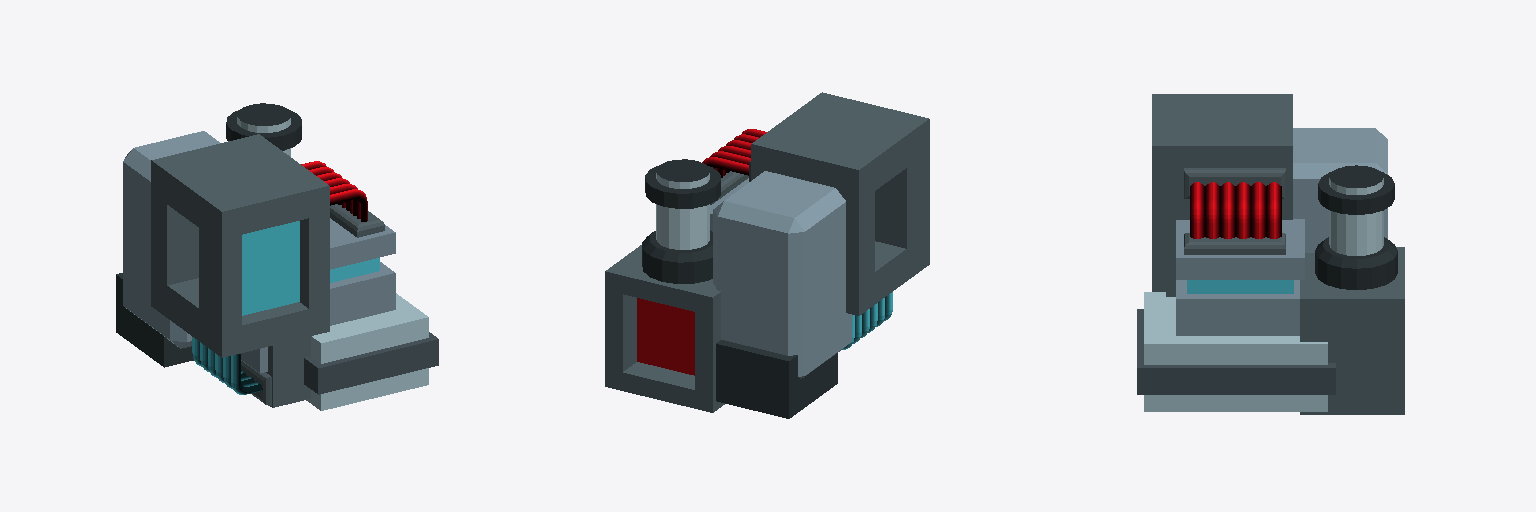
3 renders of one model, left to right at view 1: azimuth 30°, elevation 25°; view 2: azimuth 150°, elevation 25°; view 3: azimuth 270°, elevation 25°, orthographic.
Visible parts, largest first — view 1: bearingcontroller_Cube; view 2: bearingcontroller_Cube; view 3: bearingcontroller_Cube.
Boxes of the visible parts, <box> form: bearingcontroller_Cube: <box>116,103,438,410</box>; bearingcontroller_Cube: <box>605,92,929,418</box>; bearingcontroller_Cube: <box>1137,94,1404,414</box>.
Bounding box in the file's own units: 1 × 1 × 1.
Materials: 1 (1 with a texture image).